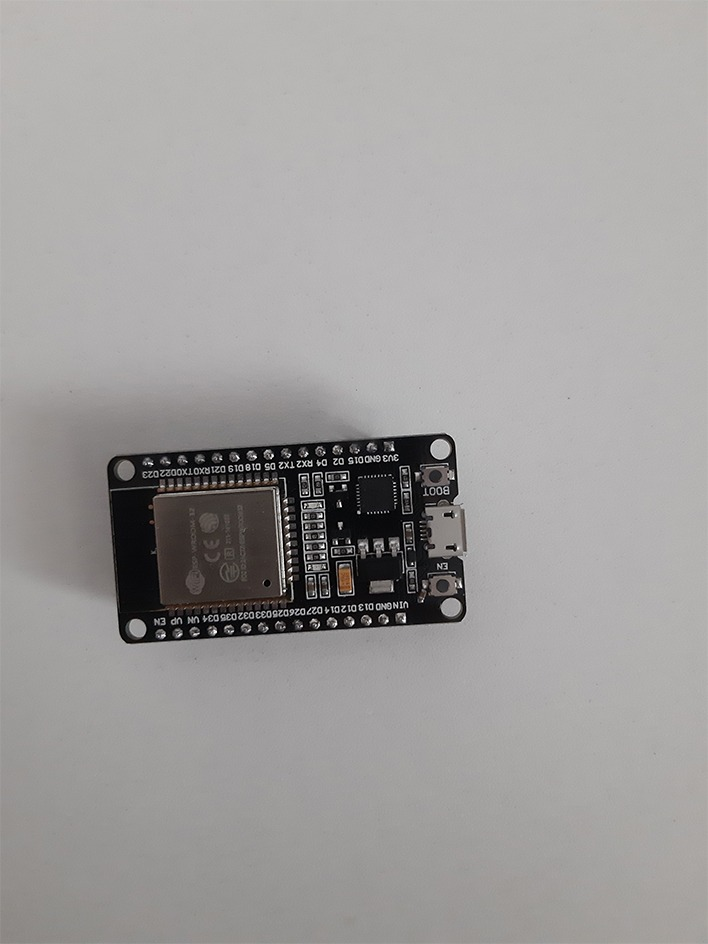ESP32-WROOM: (82, 435, 502, 665)
